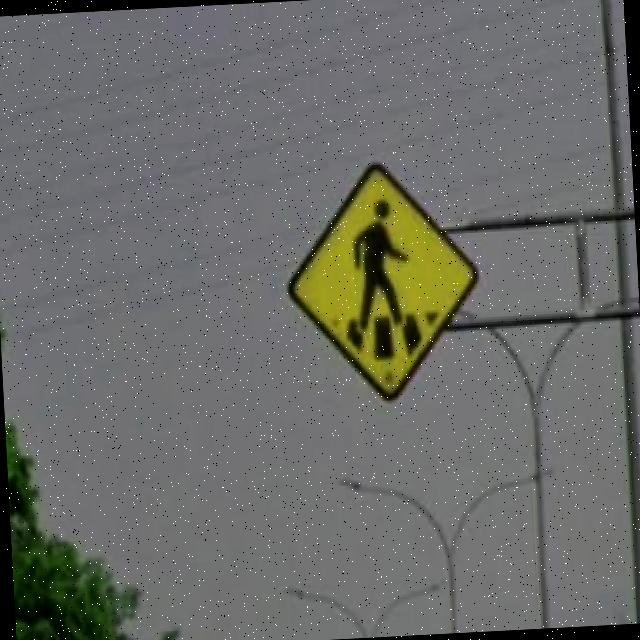Przejscie dla pieszych: (297, 167, 481, 383)
